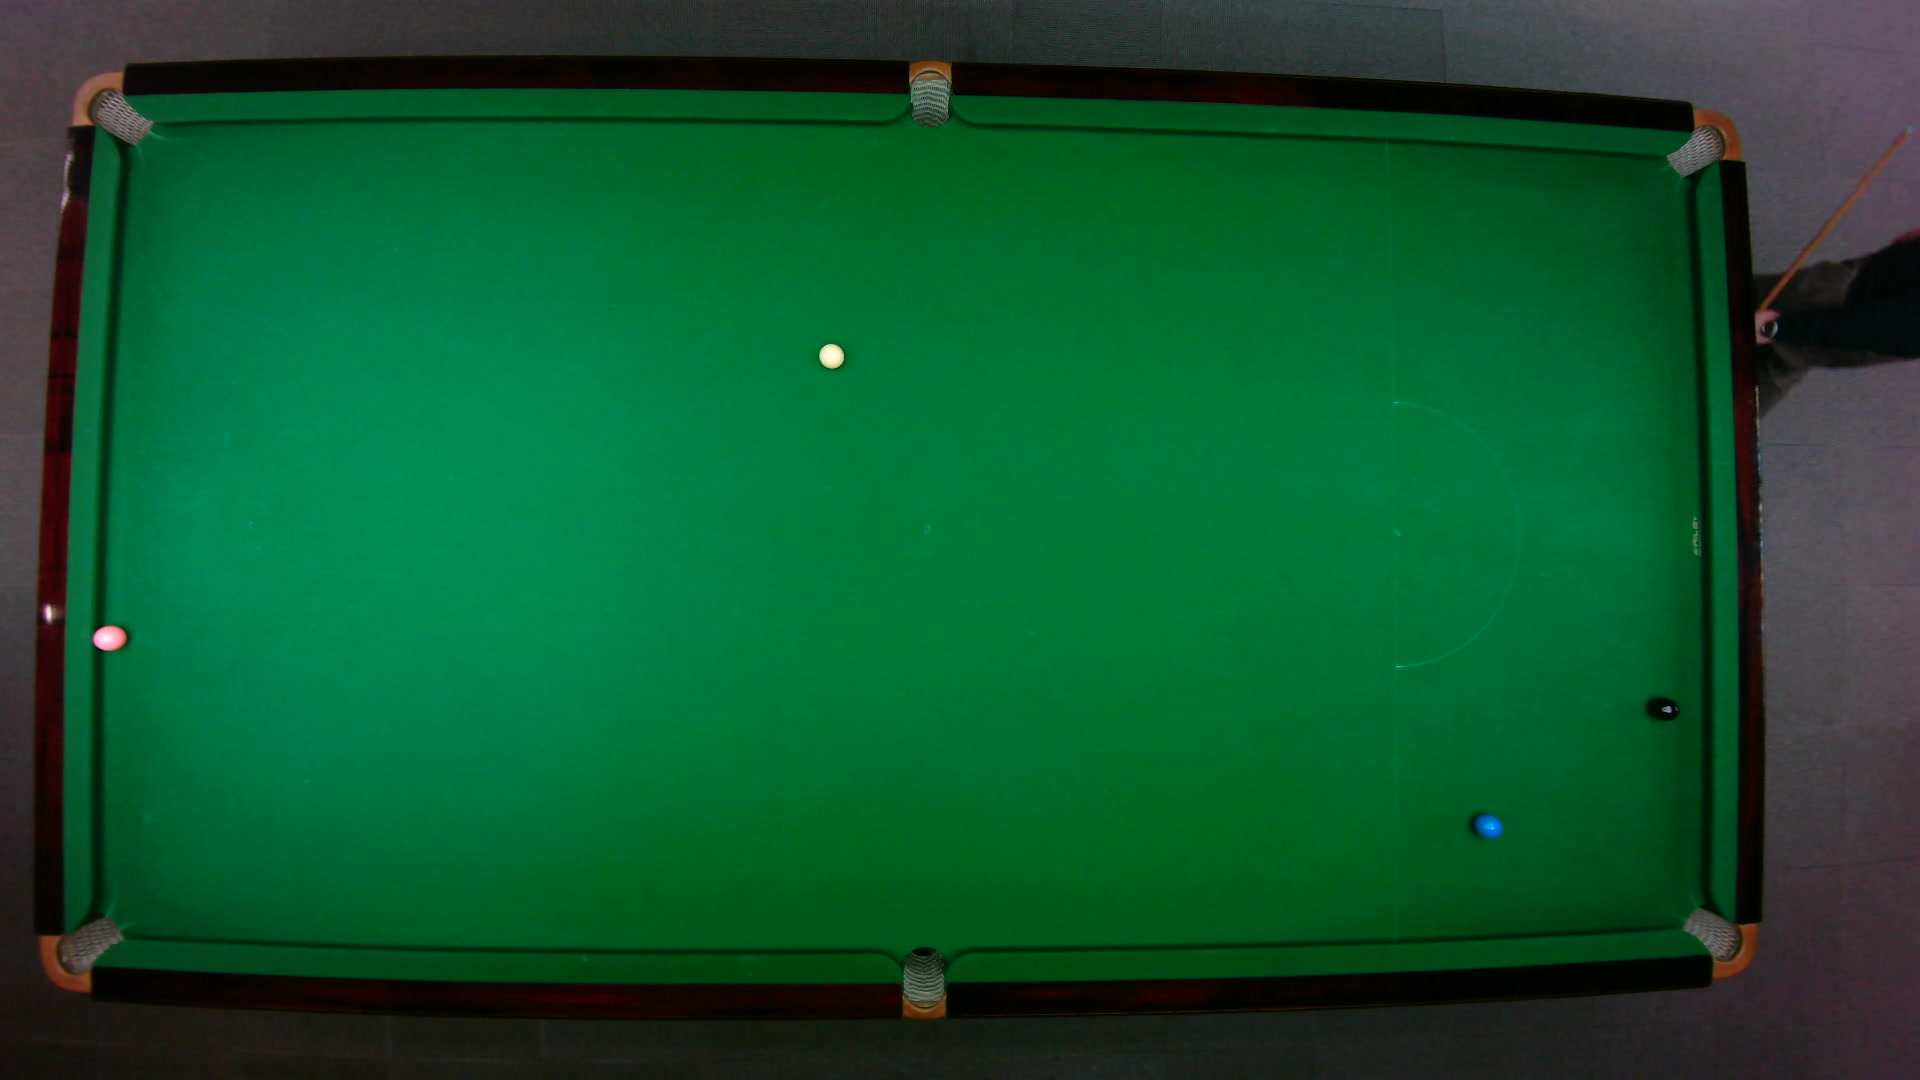bag: (38, 914, 125, 993), (69, 69, 153, 145), (1679, 905, 1756, 978), (1663, 107, 1741, 177), (901, 944, 944, 1021), (909, 57, 949, 128)
black: (1651, 696, 1680, 720)
blue: (1472, 812, 1503, 839)
cue: (1751, 123, 1913, 316)
pink: (88, 622, 128, 651)
white: (816, 342, 845, 371)
zone: (1390, 400, 1520, 669)
